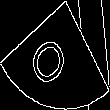O_NE: (31, 22, 79, 88)
